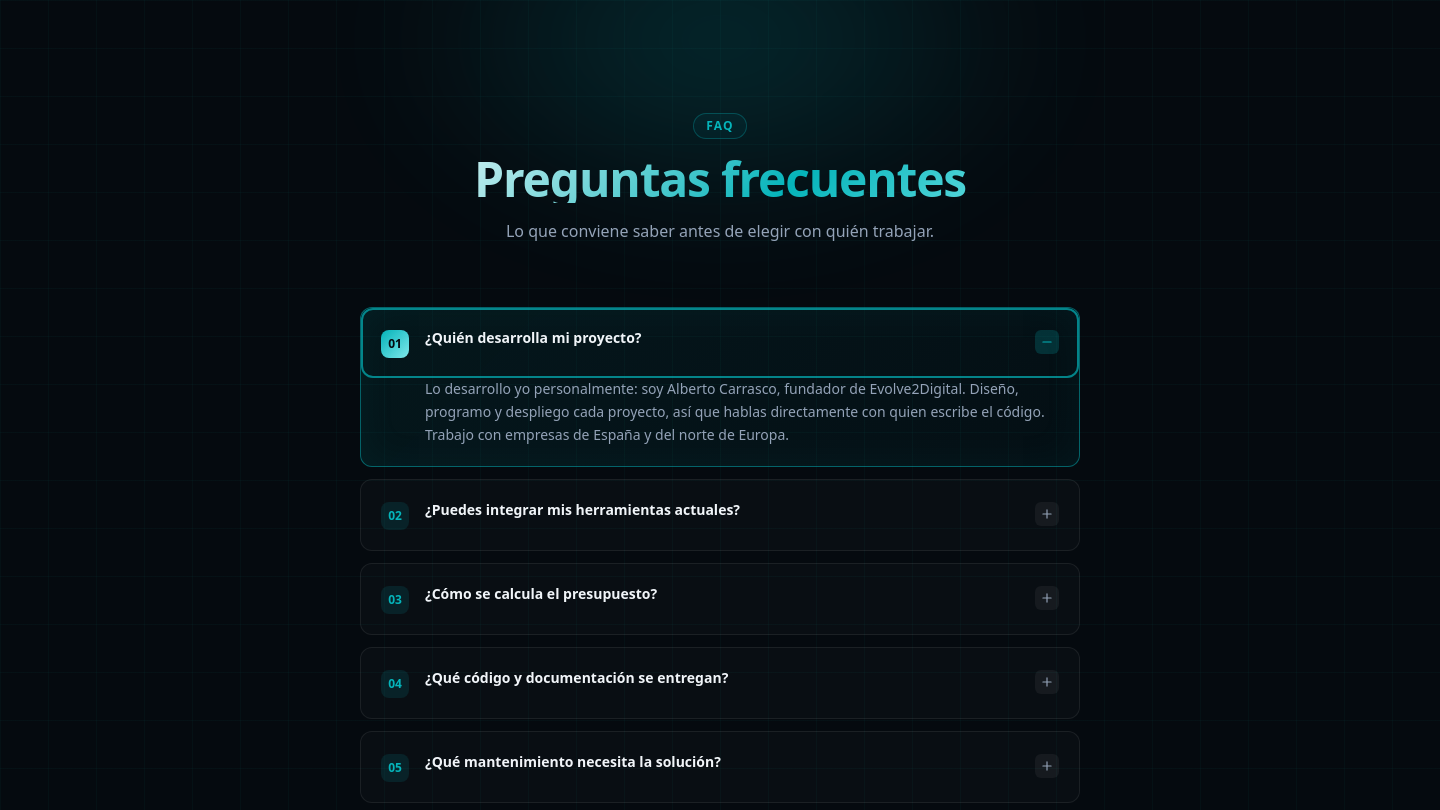
it: FaqSection (es) › opens one answer at a time on click
Earlier steps of the test are not shown.
Check: the element named "¿Quién desarrolla mi proyecto?" shows "Lo desarrollo yo personalmente: soy Alberto Carrasco, fundador de Evolve2Digital. Diseño, programo y despliego cada proyecto, así que hablas directamente con qu", box [425,379,1045,444]
Click the button "02 ¿Puedes integrar mis herramientas actuales?" at (720, 515), box [361,480,1079,550]
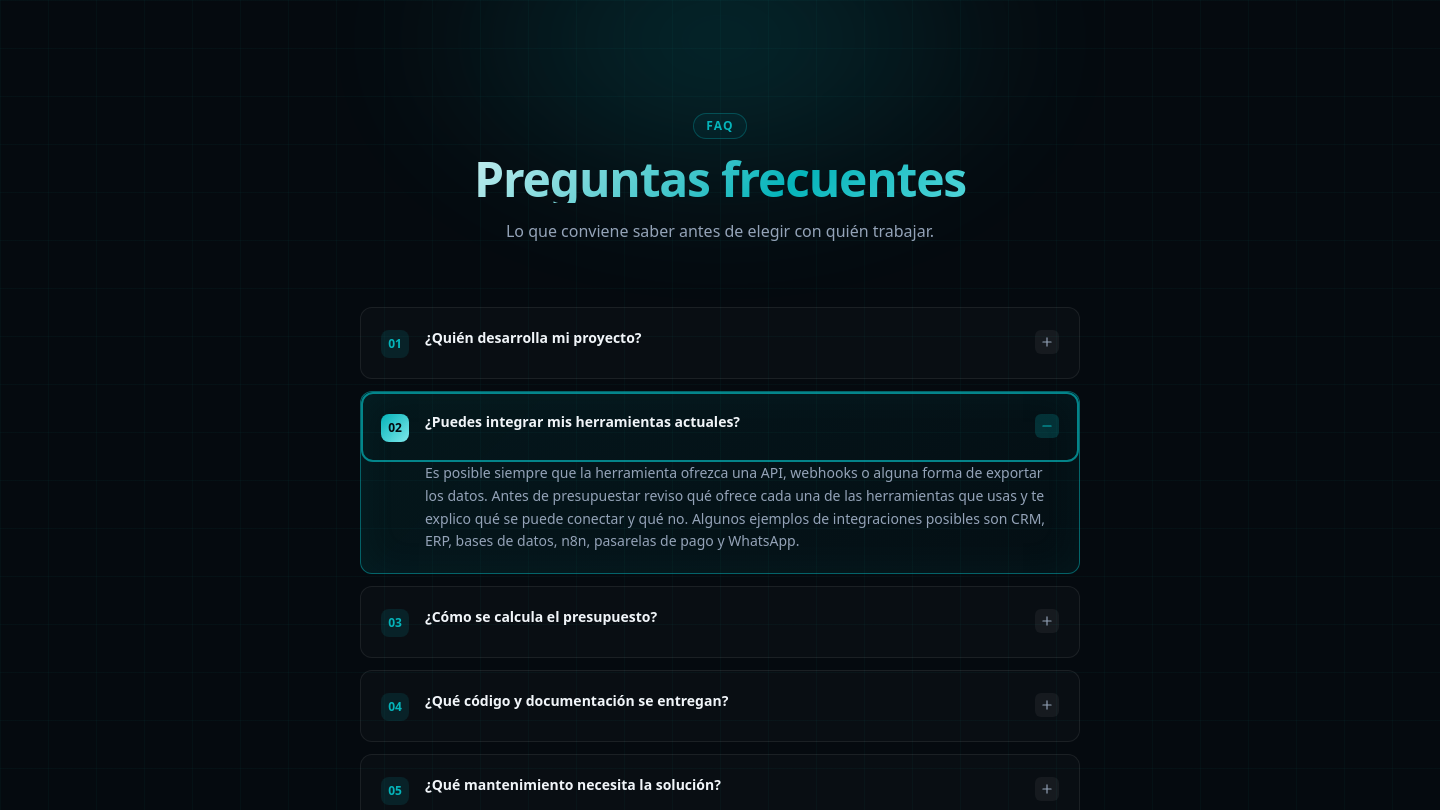
Check: the button "01 ¿Quién desarrolla mi proyecto?" is collapsed, box [361,308,1079,378]
Check: the button "02 ¿Puedes integrar mis herramientas actuales?" is expanded
Click the button "02 ¿Puedes integrar mis herramientas actuales?" at (720, 427), box [361,392,1079,462]
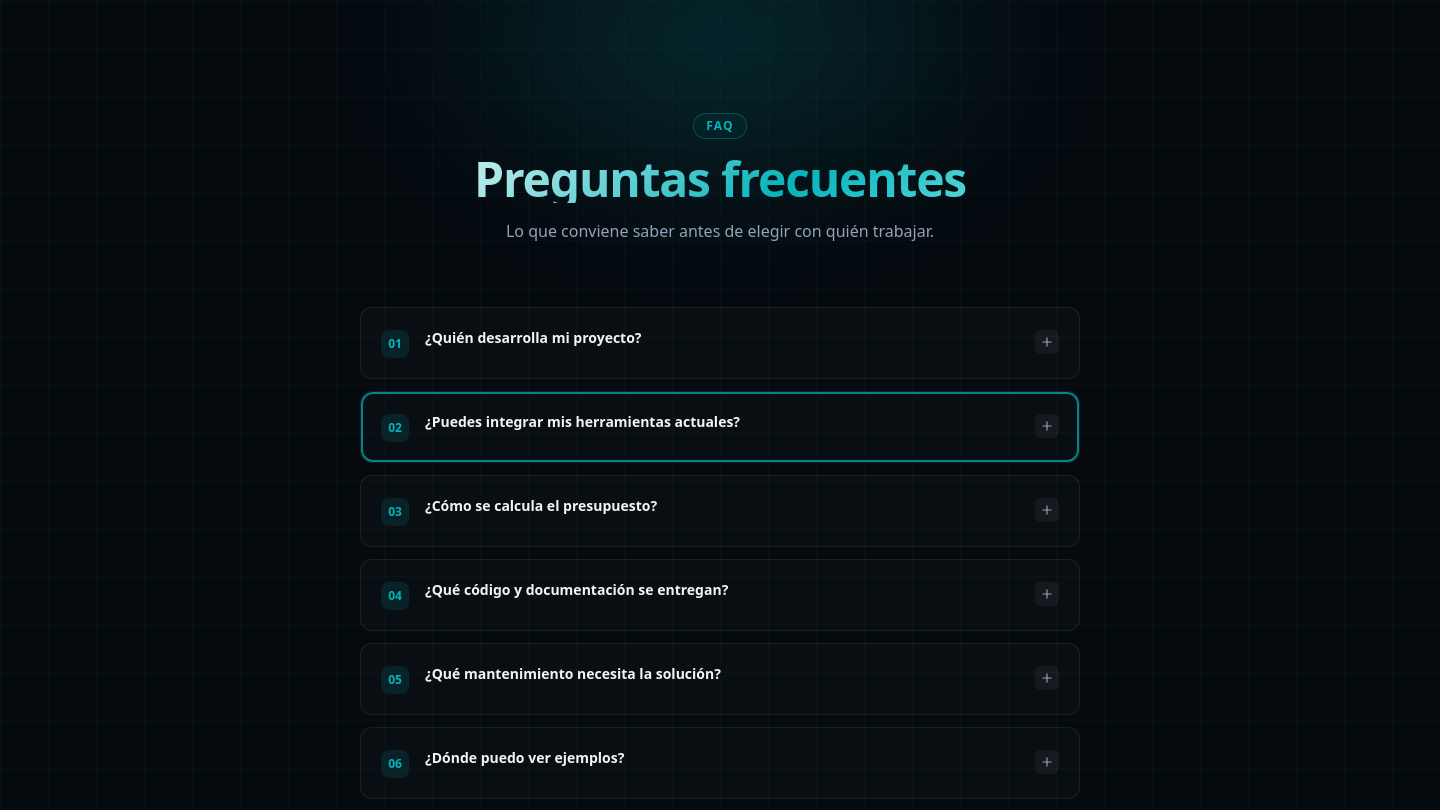
Check: the button "02 ¿Puedes integrar mis herramientas actuales?" is collapsed, box [361,392,1079,462]
